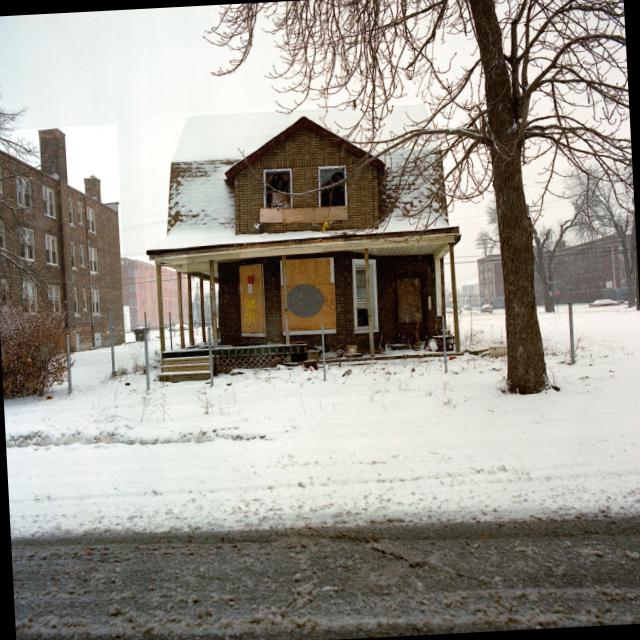House: (139, 99, 470, 384), (0, 124, 128, 358), (476, 236, 640, 310), (121, 254, 190, 329)
